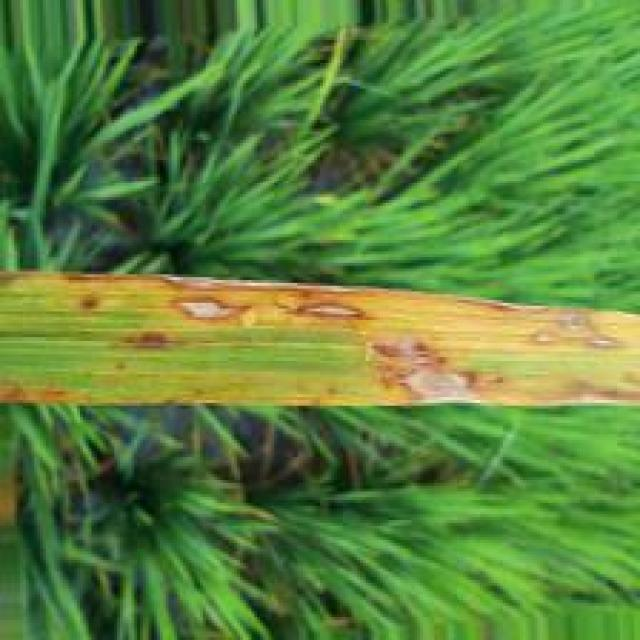Bacterial_Leaf_Blight: (143, 272, 640, 353), (359, 338, 631, 409)
